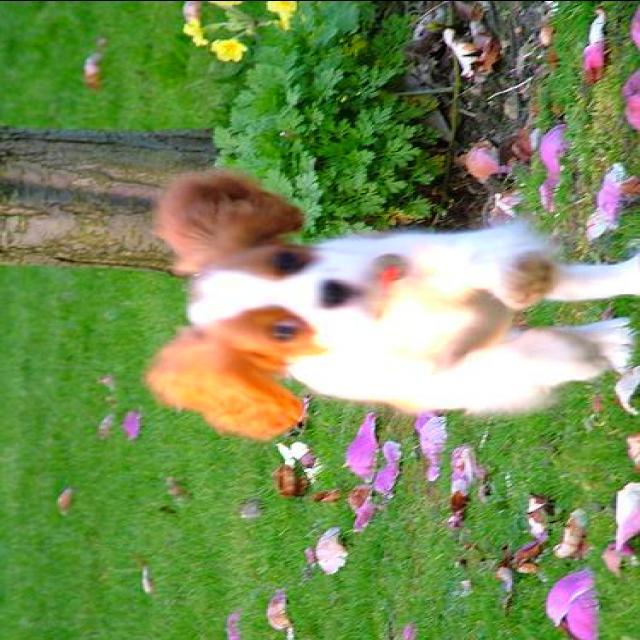blenheim_spaniel: (144, 169, 638, 438)
